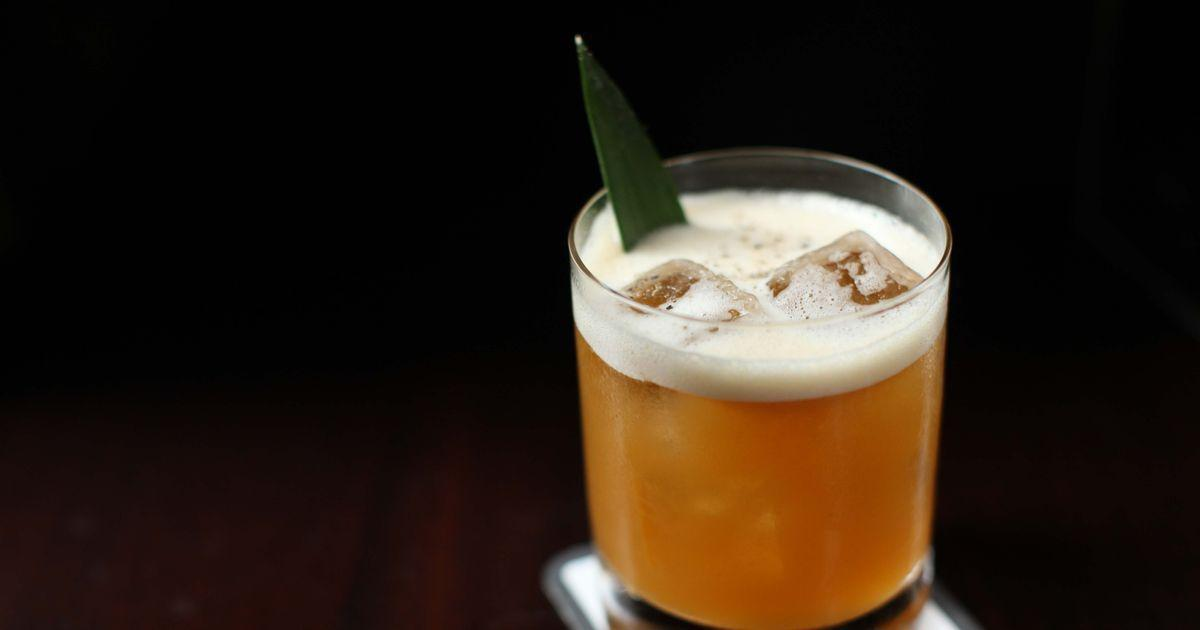glass-normal: (564, 145, 956, 629)
